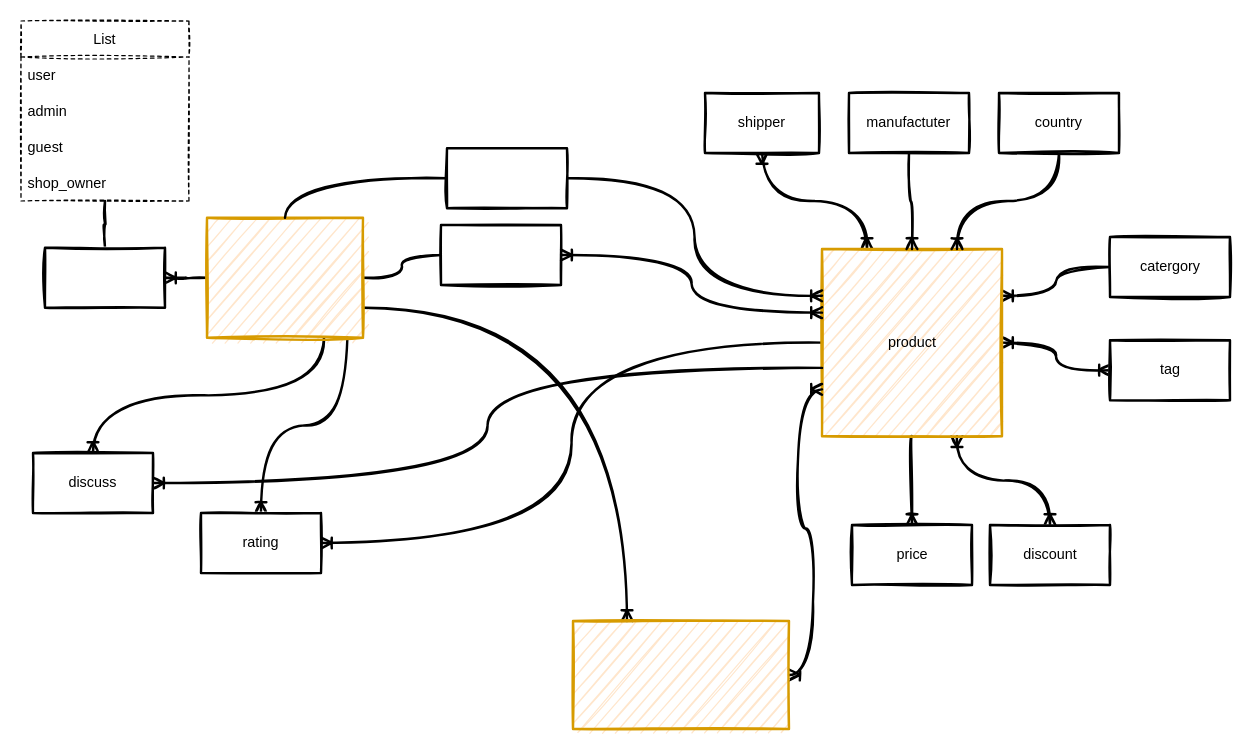
Image size: 1252x751. Some labels were removed from this diagram. Each missing label, with the box of its shape:
cart: (439, 223, 562, 286)
orders: (571, 619, 790, 730)
role: (43, 246, 166, 308)
shop: (445, 146, 568, 209)
users: (205, 216, 364, 338)
